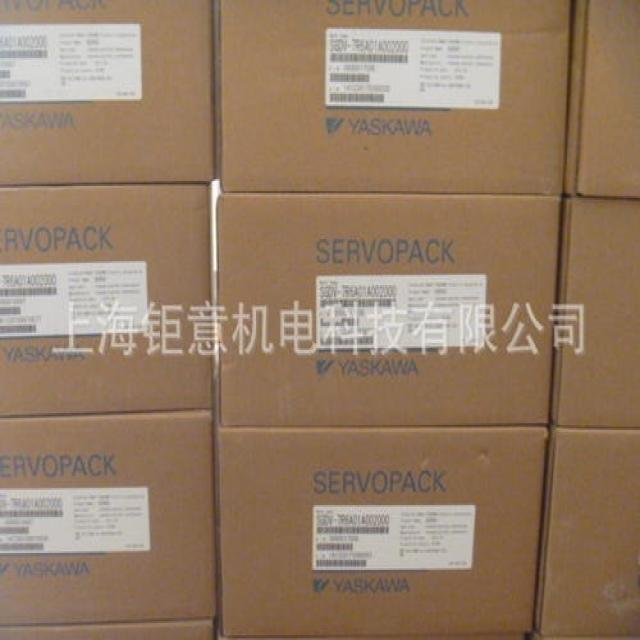box: (215, 193, 562, 427), (215, 427, 549, 638), (214, 0, 570, 195), (0, 184, 212, 418), (0, 410, 219, 626), (0, 0, 219, 184), (535, 427, 640, 640), (550, 195, 640, 428), (563, 0, 640, 196)
